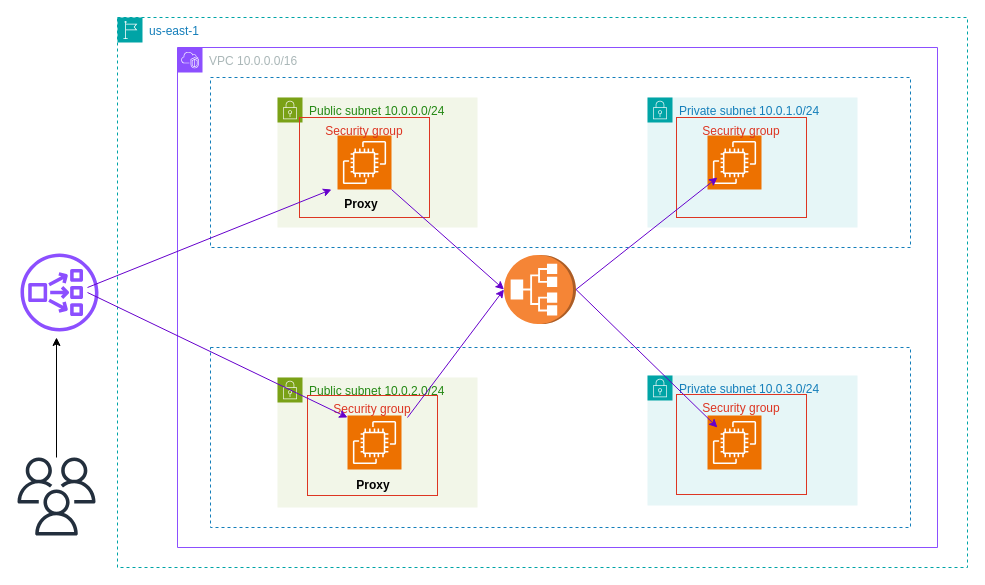
The diagram is 985 pixels wide and 585 high, and some of its shapes have lost their labels. Here are the shapes that lost their labels. From the top down, the box of each, then its label:
(210, 76, 910, 248): us-east-1a
(210, 346, 910, 528): us-east-1b
